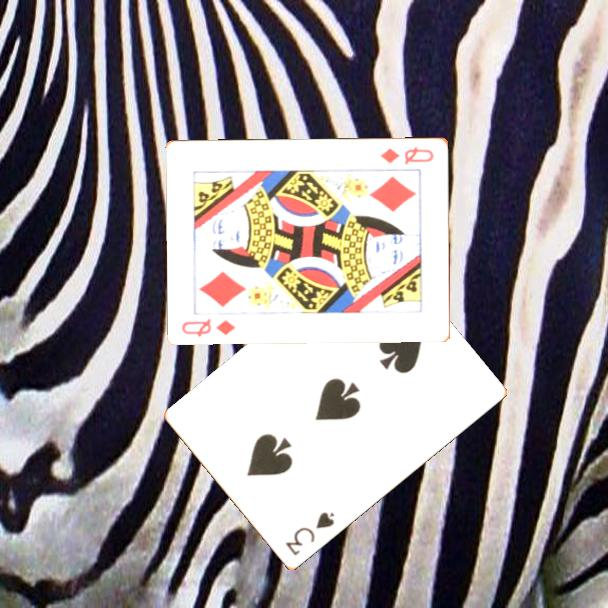d12: (179, 315, 239, 339), (377, 143, 436, 167)
s03: (282, 509, 337, 559)
